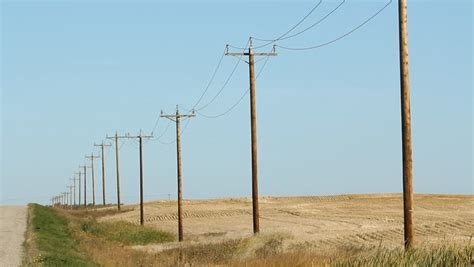pole: (154, 103, 208, 247)
